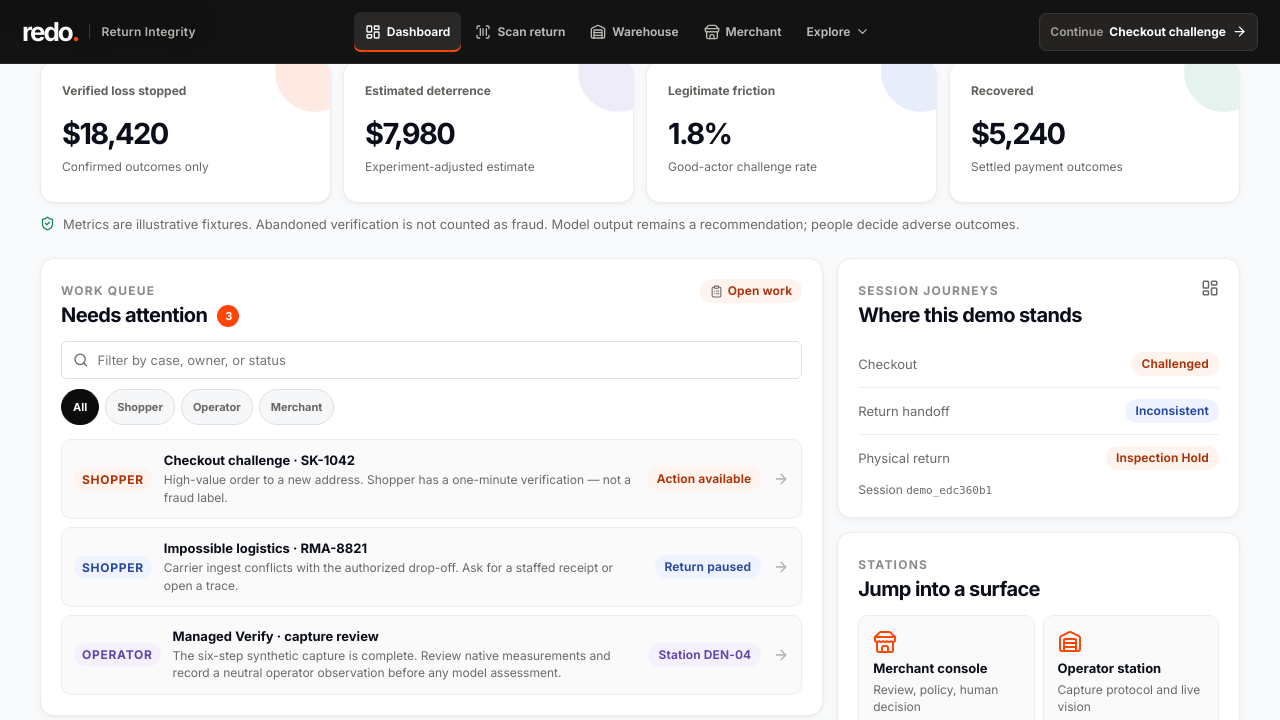
Test: interview demo › keeps the operations dashboard with a live work queue at /legacy
This screenshot has width=1280, height=720.
(page scrolled)
Check: the heading "Needs attention 3" is shown, box [61,303,239,327]
Check: the link "Checkout challenge" is shown, box [61,439,802,519]
In the field named "filter work queue": point(443, 360) [96,351,790,369], type "zzzz-no-match"
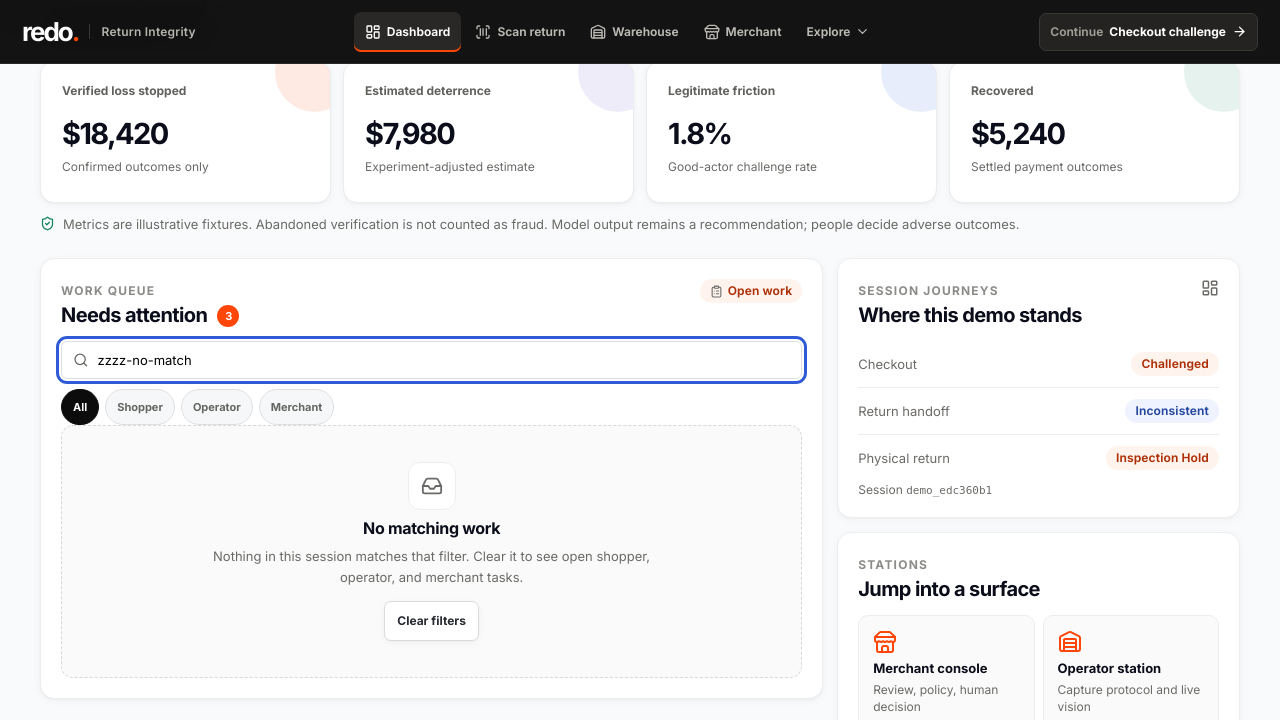
Check: the heading "No matching work" is shown, box [363,518,500,538]
Click the button "Clear filters": point(432, 621) [384,601,479,641]
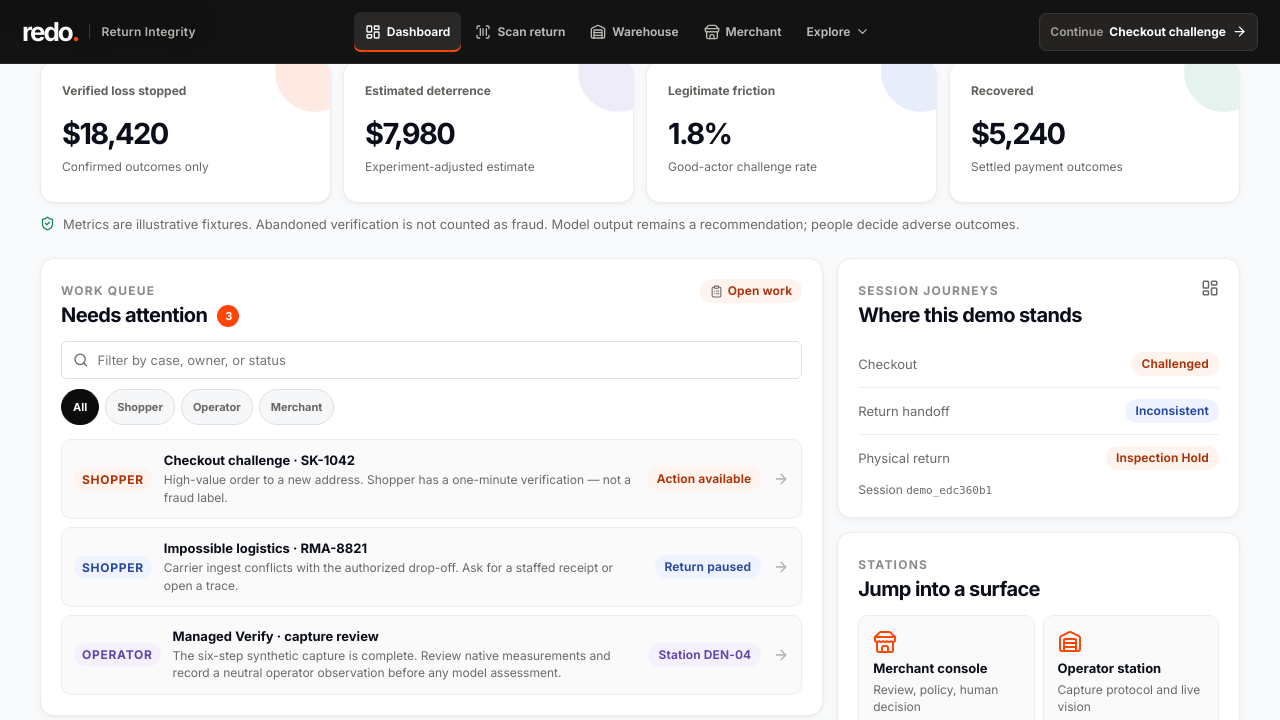
Check: the link "Checkout challenge" is shown, box [61,439,802,519]
